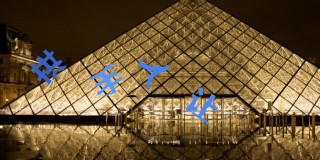人: (137, 59, 168, 90)
手: (91, 64, 121, 95)
拱: (30, 50, 66, 85)
让: (186, 86, 219, 124)
